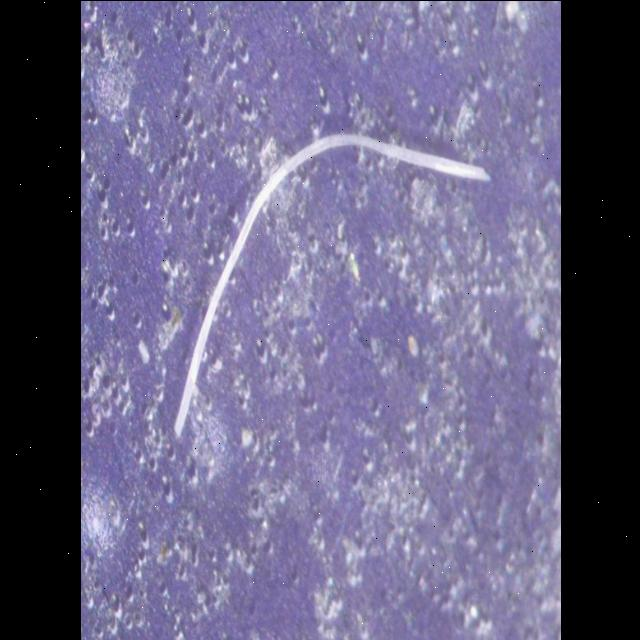Fibre: (172, 126, 490, 440)
